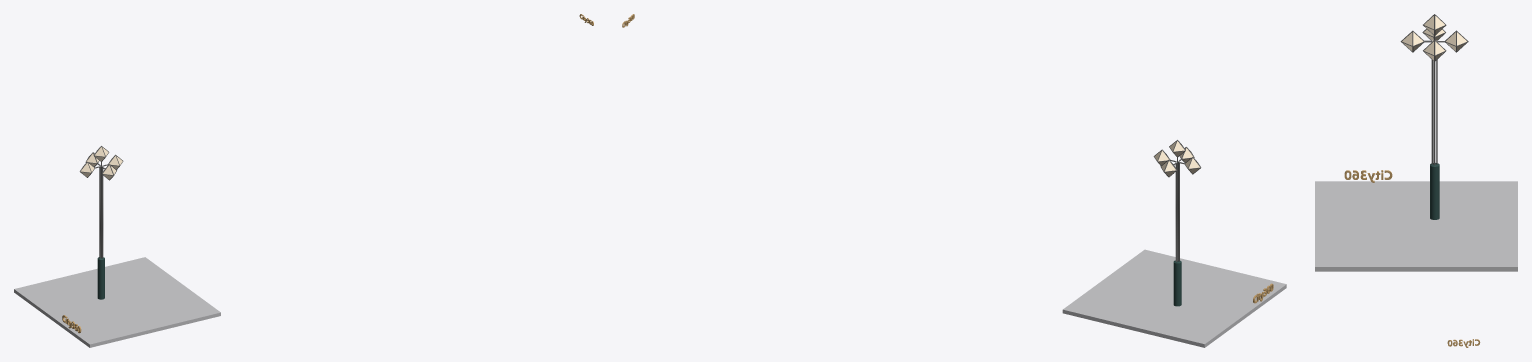
Rendered from street+lamps.obj.
The picture shows the model from 3 angles, left to right: view 1: azimuth 30°, elevation 25°; view 2: azimuth 150°, elevation 25°; view 3: azimuth 270°, elevation 25°; orthographic projection. The views are drawn at different scales.
Parts seen in each view (by area): view 1: Mesh17 Group3 Model; view 2: Mesh17 Group3 Model; view 3: Mesh17 Group3 Model, Mesh72 Lamp3_1 Model, Mesh20 Group6 Lamp3_1 Model, Mesh21 Group7 Lamp3_1 Model, Mesh53 Group31 Lamp3_1 Model, Mesh44 Group22 Lamp3_1 Model, Mesh18 Group4 Lamp3_1 Model, Mesh62 Group40 Lamp3_1 Model, Mesh71 Group49 Lamp3_1 Model.
Boxes of the visible parts, <box> form: Mesh17 Group3 Model: <box>14,257,220,347</box>; Mesh17 Group3 Model: <box>1062,249,1286,347</box>; Mesh17 Group3 Model: <box>1315,181,1517,271</box>; Mesh72 Lamp3_1 Model: <box>1430,163,1439,219</box>; Mesh20 Group6 Lamp3_1 Model: <box>1431,40,1433,164</box>; Mesh21 Group7 Lamp3_1 Model: <box>1433,61,1435,165</box>; Mesh53 Group31 Lamp3_1 Model: <box>1402,32,1423,50</box>; Mesh44 Group22 Lamp3_1 Model: <box>1446,32,1466,50</box>; Mesh18 Group4 Lamp3_1 Model: <box>1436,40,1437,164</box>; Mesh62 Group40 Lamp3_1 Model: <box>1424,41,1445,60</box>; Mesh71 Group49 Lamp3_1 Model: <box>1424,16,1444,34</box>.
Size of the model in its own units: 1687 by 454 by 400.
6 materials, 1 textured.
